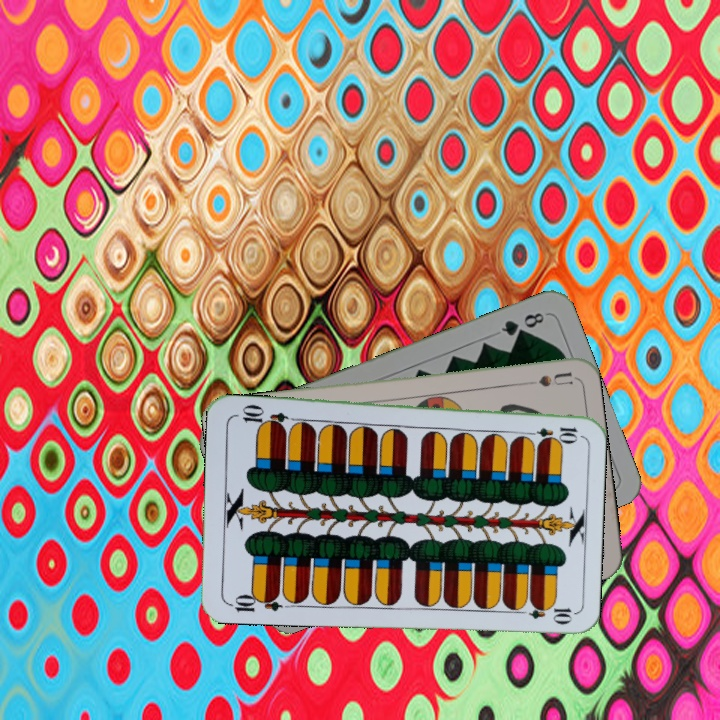E10: (225, 588, 284, 615), (521, 423, 580, 442)
G8: (497, 308, 547, 339)
SU: (534, 368, 574, 390)
